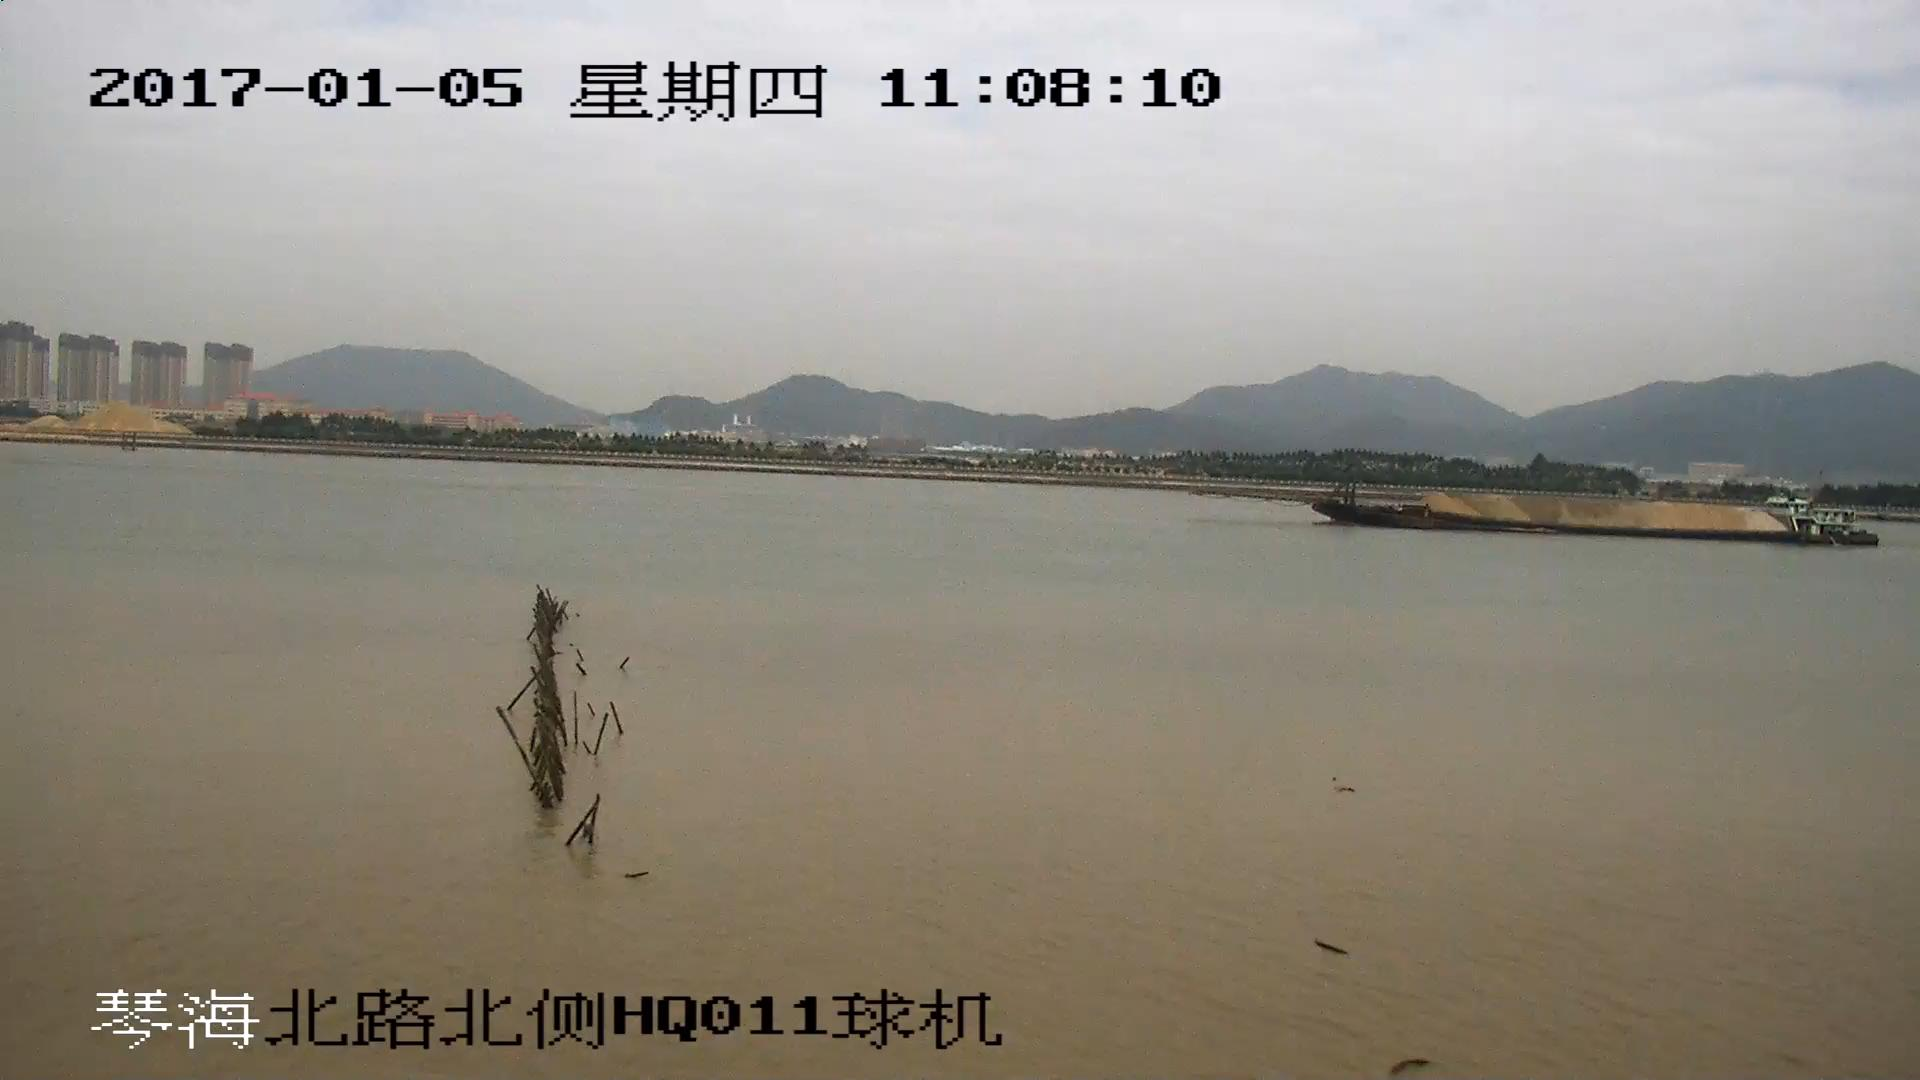ore carrier: (1214, 468, 1870, 546)
